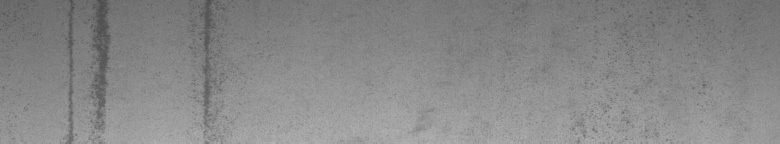hd: (194, 4, 224, 127)
